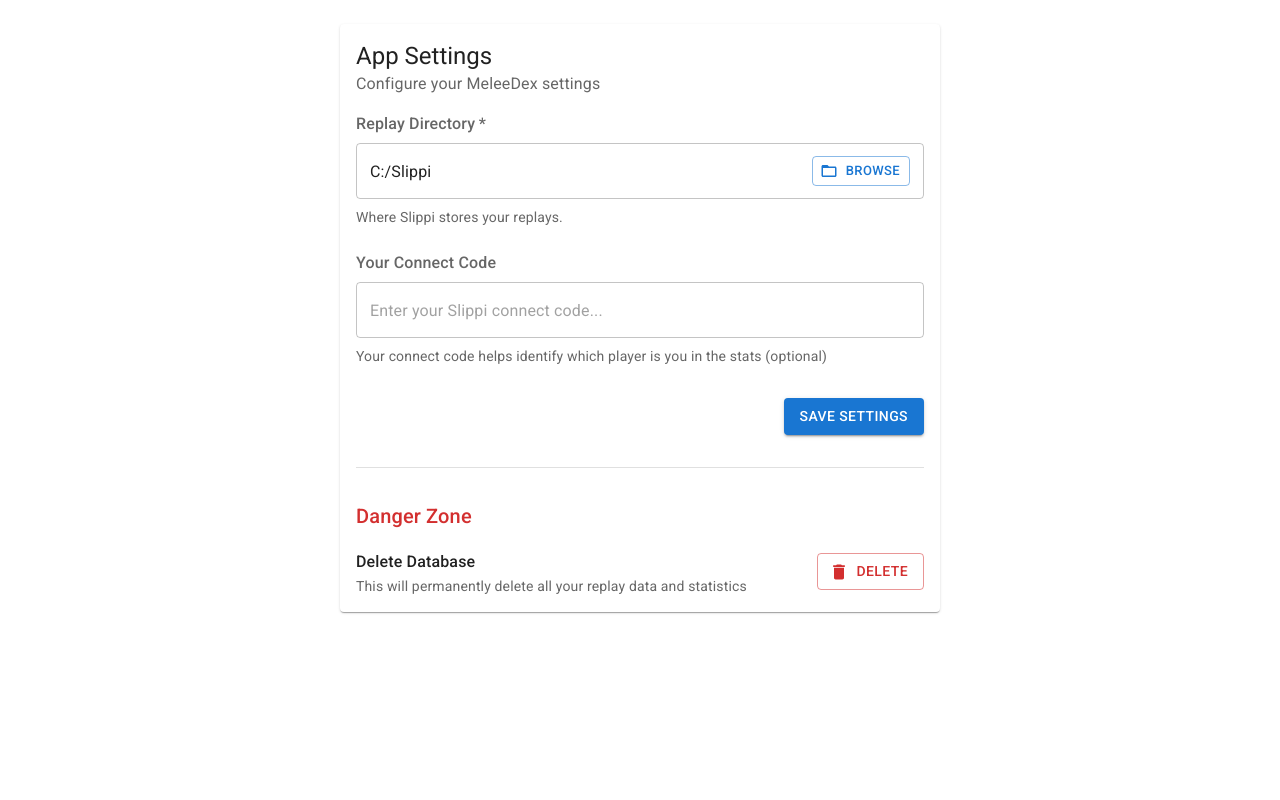
Test: SettingsPage — deleting the database › keeps the confirm button disabled until 'delete' is typed
Click the button "Delete": (870, 572) x1=816 y1=553 x2=924 y2=590
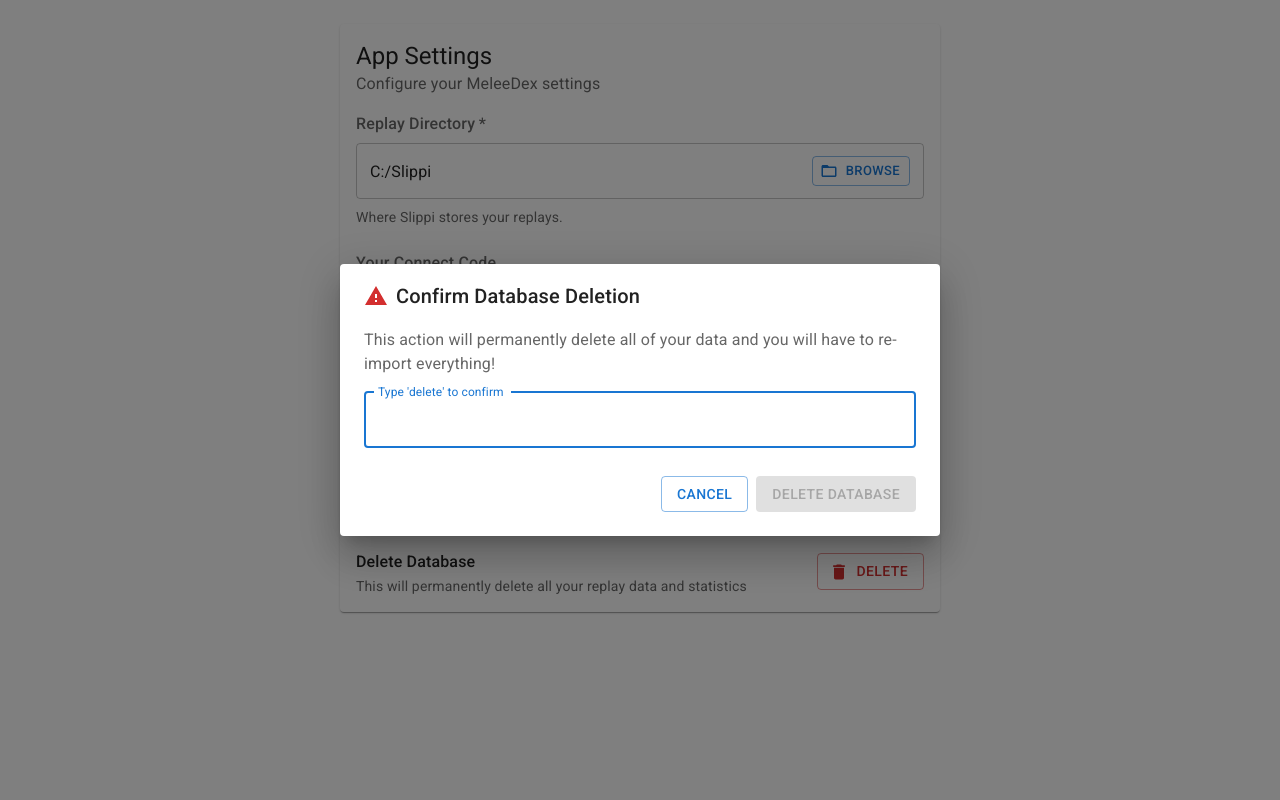
Expected: the button "Delete Database" is disabled, x1=756 y1=476 x2=916 y2=512
In the field labelled "Type 'delete' to confirm": (640, 420) x1=364 y1=392 x2=916 y2=448, type "delete"
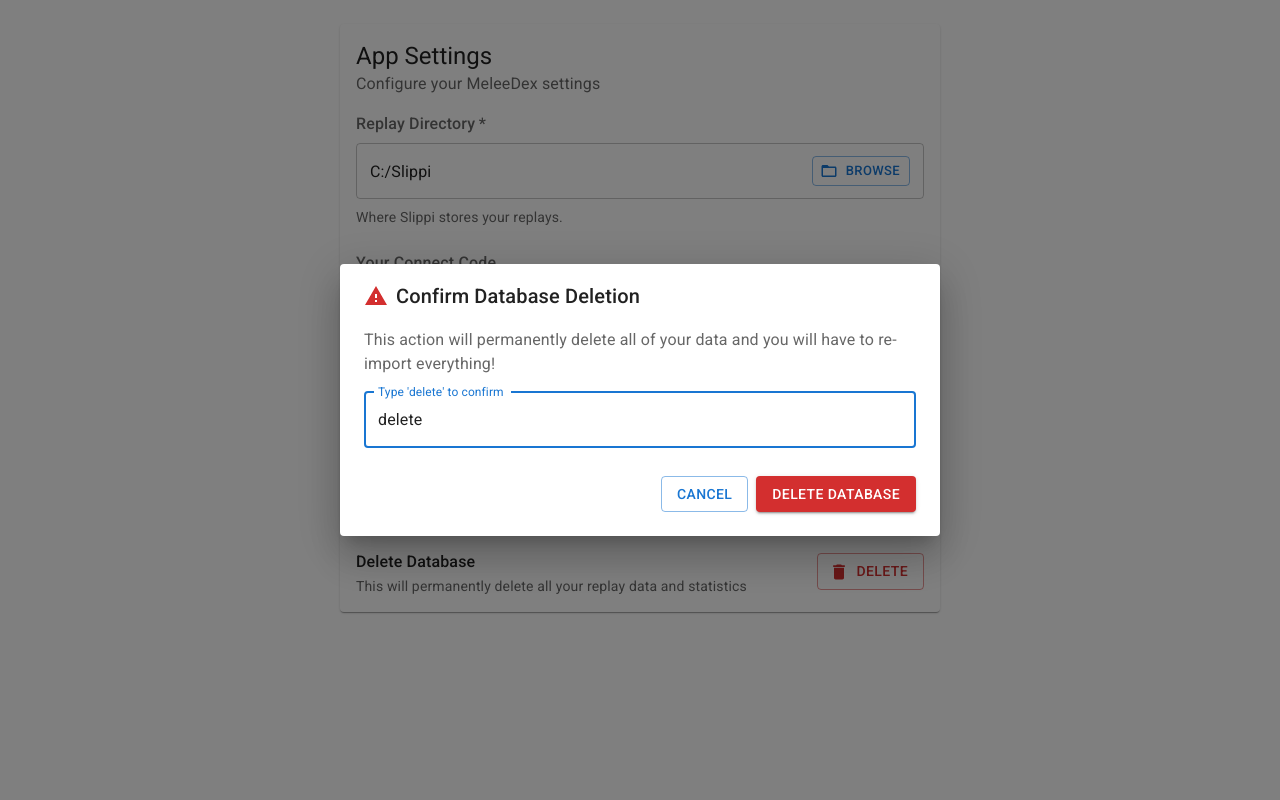
Expected: the button "Delete Database" is enabled, x1=756 y1=476 x2=916 y2=512
